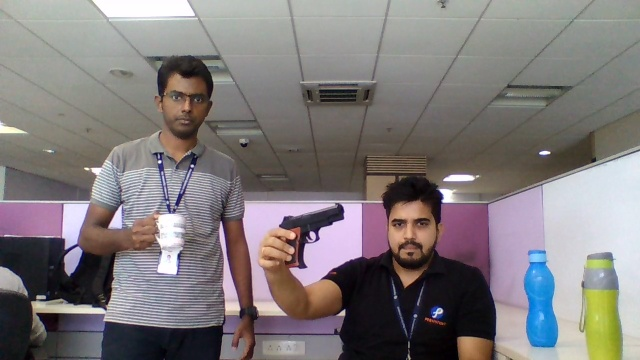gun: (296, 203, 345, 269)
